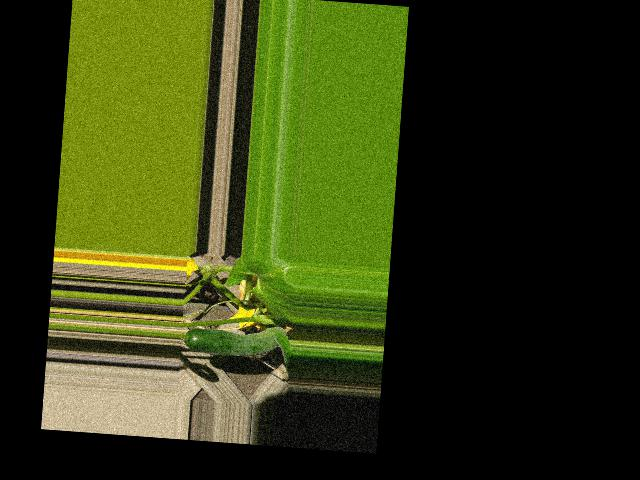cucumber: (185, 320, 292, 360)
